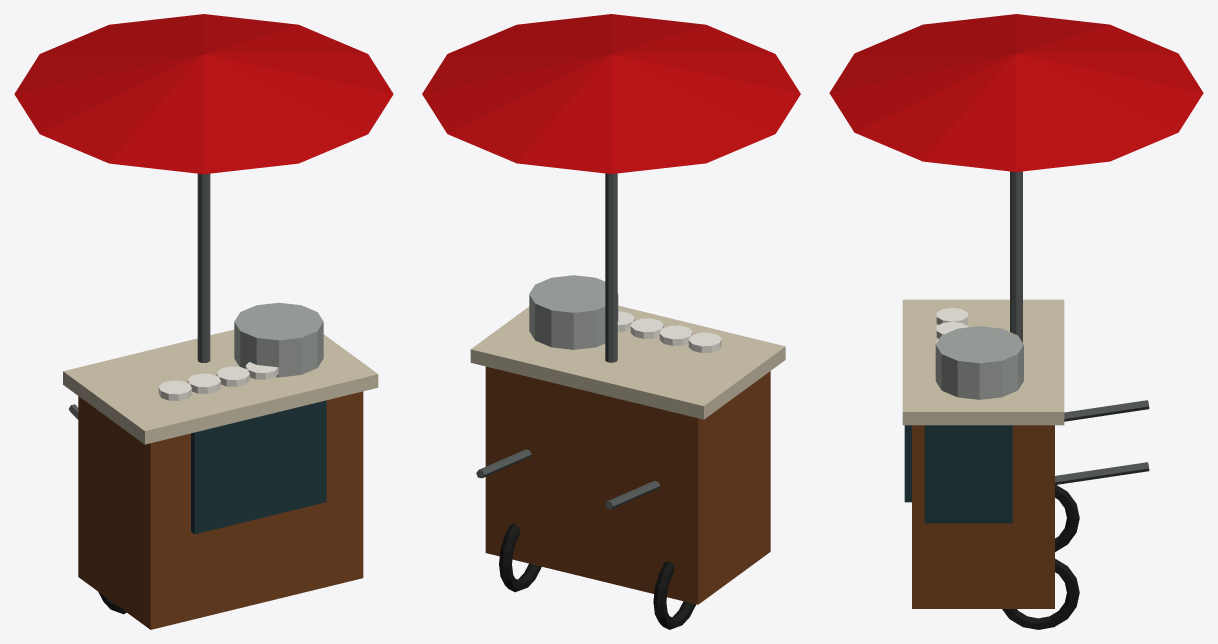
The model's file is GerobakBakso.obj.
The picture shows the model from 3 angles, left to right: view 1: azimuth 30°, elevation 25°; view 2: azimuth 150°, elevation 25°; view 3: azimuth 270°, elevation 25°; orthographic projection.
Visible parts, largest first — view 1: UMBRELLA, CART_BODY, COUNTER, FRONT_GLASS, POT, UMBRELLA_POLE, BOWL_0, BOWL_1, BOWL_2; view 2: CART_BODY, UMBRELLA, COUNTER, POT, UMBRELLA_POLE, WHEEL_-0.48, WHEEL_0.48, BOWL_0, BOWL_2, BOWL_1, HANDLE_0.4, HANDLE_-0.4; view 3: UMBRELLA, CART_BODY, COUNTER, SIDE_GLASS, POT, UMBRELLA_POLE, WHEEL_0.48, HANDLE_0.4, WHEEL_-0.48, HANDLE_-0.4, FRONT_GLASS.
Part boxes in pixels (x1,y1,x2,y2): UMBRELLA: (14,14,393,174); CART_BODY: (78,391,363,629); COUNTER: (63,329,378,444); FRONT_GLASS: (191,400,326,534); POT: (234,302,323,377); UMBRELLA_POLE: (197,173,210,362); BOWL_0: (158,380,191,400); BOWL_1: (187,373,220,393); BOWL_2: (216,366,249,386); CART_BODY: (485,366,770,604); UMBRELLA: (422,14,800,173); COUNTER: (470,305,785,419); POT: (529,275,618,349); UMBRELLA_POLE: (605,173,617,362); WHEEL_-0.48: (653,561,695,629); WHEEL_0.48: (499,523,541,592); BOWL_0: (688,332,721,352); BOWL_2: (630,318,663,338); BOWL_1: (659,325,692,345); HANDLE_0.4: (476,449,531,478); HANDLE_-0.4: (605,481,659,509); UMBRELLA: (829,14,1203,171); CART_BODY: (912,425,1054,608); COUNTER: (902,299,1064,425); SIDE_GLASS: (924,425,1012,523); POT: (935,326,1023,399); UMBRELLA_POLE: (1010,171,1022,342); WHEEL_0.48: (1002,558,1079,629); HANDLE_0.4: (1055,462,1149,484); WHEEL_-0.48: (1055,485,1079,551); HANDLE_-0.4: (1064,400,1149,421); FRONT_GLASS: (904,425,911,502).
Bounding box in the file's own units: 2.04 × 3.24 × 2.04.
